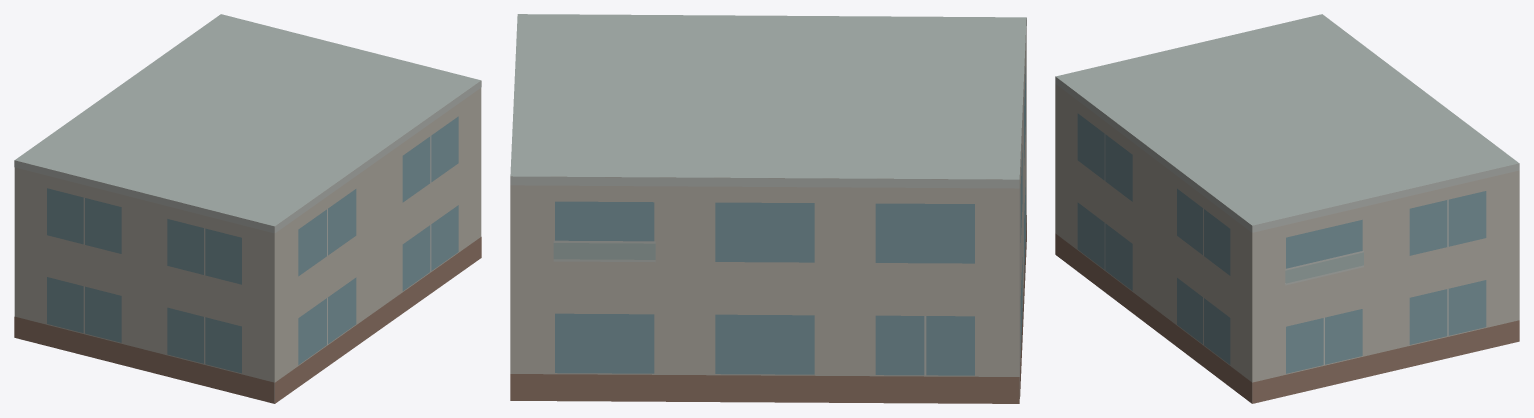
The model's file is survey-upis-32674342.glb.
3 renders of one model, left to right at view 1: azimuth 30°, elevation 25°; view 2: azimuth 150°, elevation 25°; view 3: azimuth 270°, elevation 25°, orthographic. The views are drawn at different scales.
Parts seen in each view (by area): view 1: survey-upis-32674342.tmp; view 2: survey-upis-32674342.tmp; view 3: survey-upis-32674342.tmp.
Boxes of the visible parts, x1,y1,x2,y2 form: survey-upis-32674342.tmp: [14, 14, 481, 403]; survey-upis-32674342.tmp: [510, 14, 1026, 403]; survey-upis-32674342.tmp: [1055, 14, 1519, 403].
Bounding box in the file's own units: 15.55 × 6.1 × 14.41.
